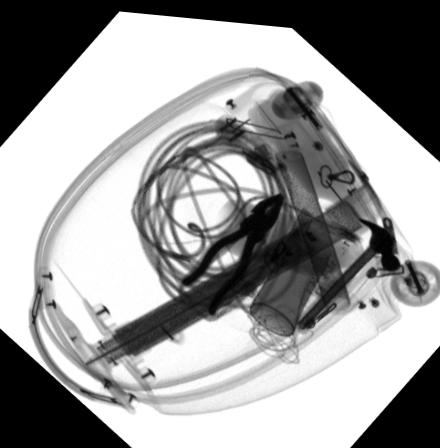Hammer: (294, 210, 401, 327)
Pliers: (178, 186, 285, 311)
